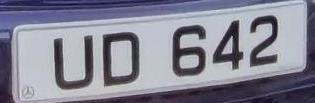2: (247, 11, 283, 71)
4: (210, 12, 249, 80)
6: (168, 15, 213, 87)
D: (97, 27, 147, 89)
U: (47, 31, 99, 93)
